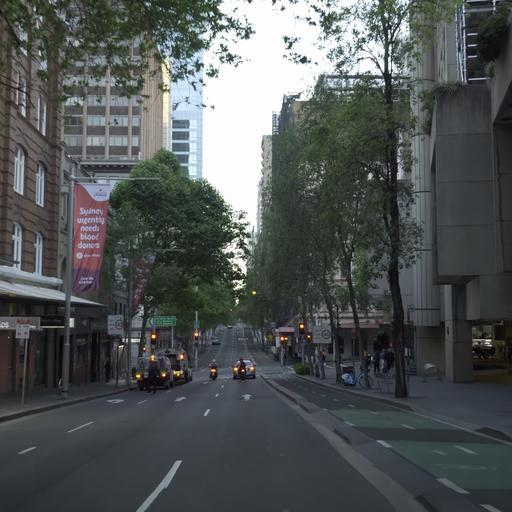Street light: (58, 171, 161, 398), (279, 335, 287, 365), (150, 332, 156, 345), (298, 322, 304, 334)
